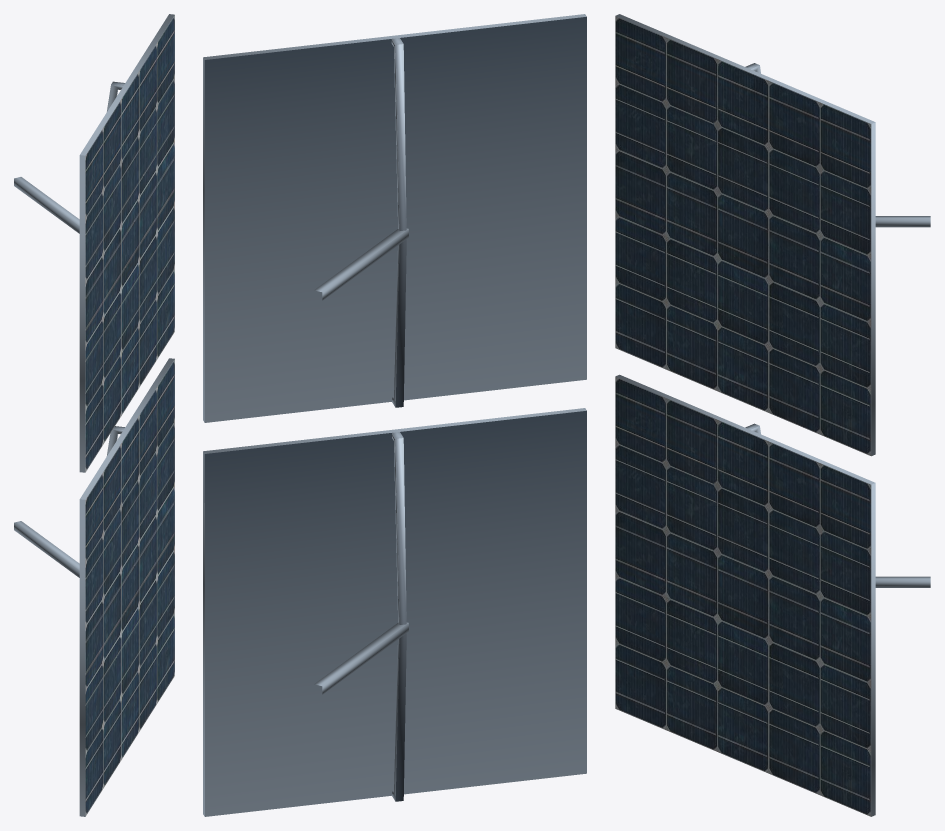
Rendered from solarpanel.glb.
3 renders of one model, left to right at view 1: azimuth 30°, elevation 25°; view 2: azimuth 150°, elevation 25°; view 3: azimuth 270°, elevation 25°, orthographic. The views are drawn at different scales.
Visible parts, largest first — view 1: Plane_003; view 2: Plane_003; view 3: Plane_003.
Boxes of the visible parts, <box> form: Plane_003: <box>14,14,174,816</box>; Plane_003: <box>203,14,586,816</box>; Plane_003: <box>615,14,930,816</box>.
Bounding box in the file's own units: 2.62 × 7.69 × 3.17.
Materials: 1 (1 with a texture image).
